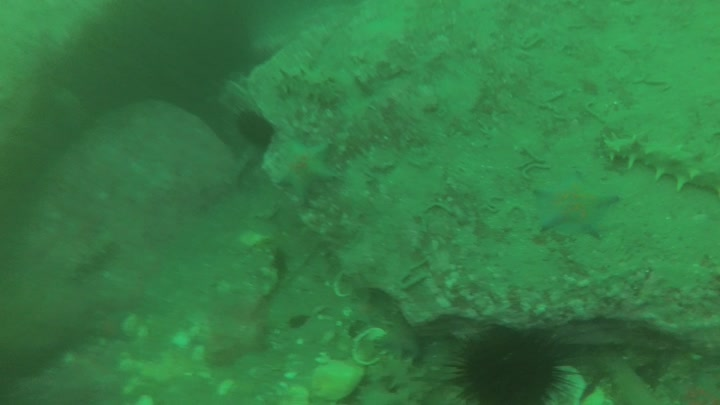echinus: (441, 315, 594, 405), (356, 357, 436, 405), (233, 106, 278, 153)
holothurian: (601, 129, 720, 196), (273, 65, 344, 107), (68, 230, 118, 281)
starfish: (532, 164, 624, 241), (274, 134, 336, 205), (374, 319, 428, 362)
